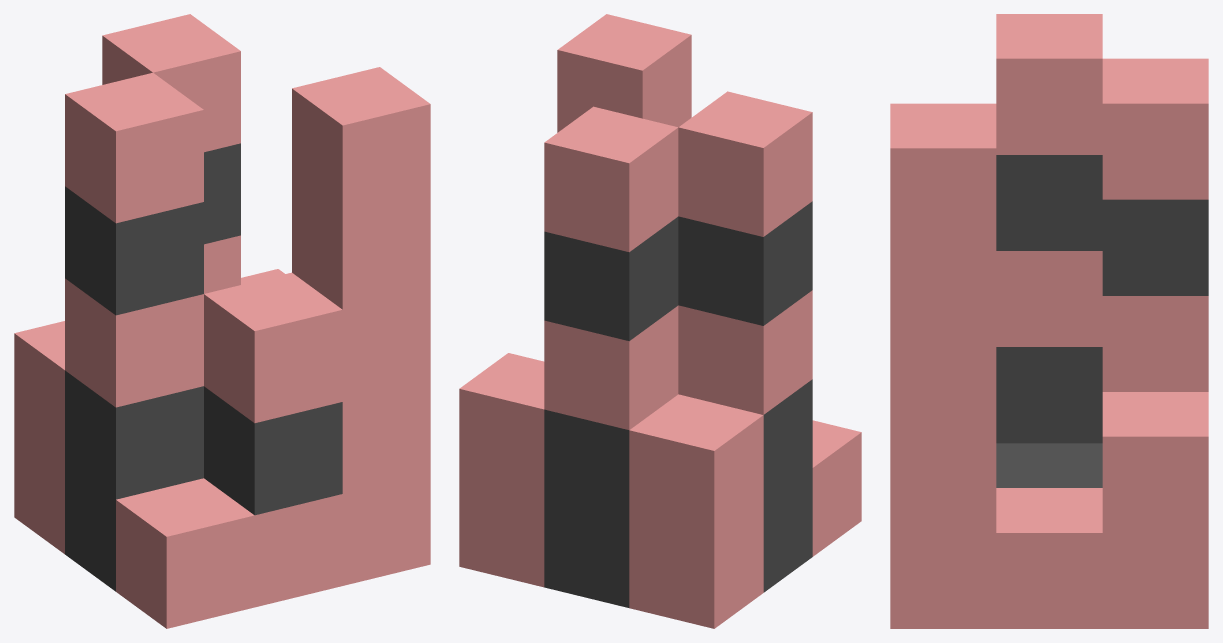
File: three-view_diagram.obj
The picture shows the model from 3 angles, left to right: view 1: azimuth 30°, elevation 25°; view 2: azimuth 150°, elevation 25°; view 3: azimuth 270°, elevation 25°; orthographic projection. The views are drawn at different scales.
Visible parts, largest first — view 1: 實體5, 實體22, 實體16, 實體30, 實體19, 實體21, 實體17, 實體23, 實體31, 實體40, 實體25, 實體27 (+7 smaller); view 2: 實體14, 實體22, 實體40, 實體30, 實體15, 實體23, 實體39, 實體21, 實體41, 實體32, 實體35, 實體33 (+4 smaller); view 3: 實體30, 實體40, 實體8, 實體22, 實體32, 實體19, 實體27, 實體29, 實體31, 實體41, 實體21, 實體23 (+4 smaller).
Boxes of the visible parts, x1,y1,x2,y2 form: 實體5: (116, 478, 254, 628); 實體22: (65, 72, 203, 223); 實體16: (204, 272, 342, 423); 實體30: (292, 67, 430, 217); 實體19: (65, 370, 203, 499); 實體21: (65, 278, 203, 407); 實體17: (204, 386, 342, 515); 實體23: (65, 186, 203, 315); 實體31: (292, 181, 430, 309); 實體40: (102, 14, 240, 152); 實體25: (342, 472, 430, 585); 實體27: (342, 380, 430, 493); 實體14: (629, 394, 763, 539); 實體22: (678, 91, 812, 236); 實體40: (544, 106, 678, 252); 實體30: (557, 14, 691, 132); 實體15: (629, 504, 763, 628); 實體23: (678, 201, 812, 325); 實體39: (544, 306, 678, 430); 實體21: (678, 290, 812, 414); 實體41: (544, 217, 678, 341); 實體32: (459, 353, 544, 498); 實體35: (544, 498, 629, 607); 實體33: (459, 478, 544, 587); 實體30: (890, 103, 996, 244); 實體40: (1102, 58, 1208, 199); 實體8: (996, 488, 1102, 628); 實體22: (996, 14, 1102, 154); 實體32: (1102, 392, 1208, 532); 實體19: (996, 347, 1102, 443); 實體27: (890, 436, 996, 532); 實體29: (890, 340, 996, 436); 實體31: (890, 244, 996, 340); 實體41: (1102, 199, 1208, 295); 實體21: (996, 251, 1102, 346); 實體23: (996, 155, 1102, 250).
Bounding box in the file's own units: 300 × 500 × 300.
